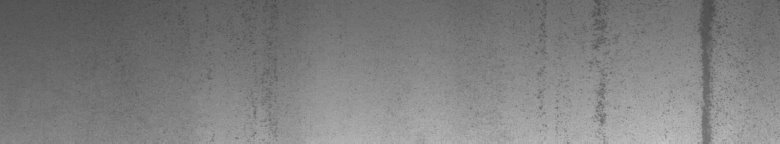hd: (686, 4, 762, 136)
